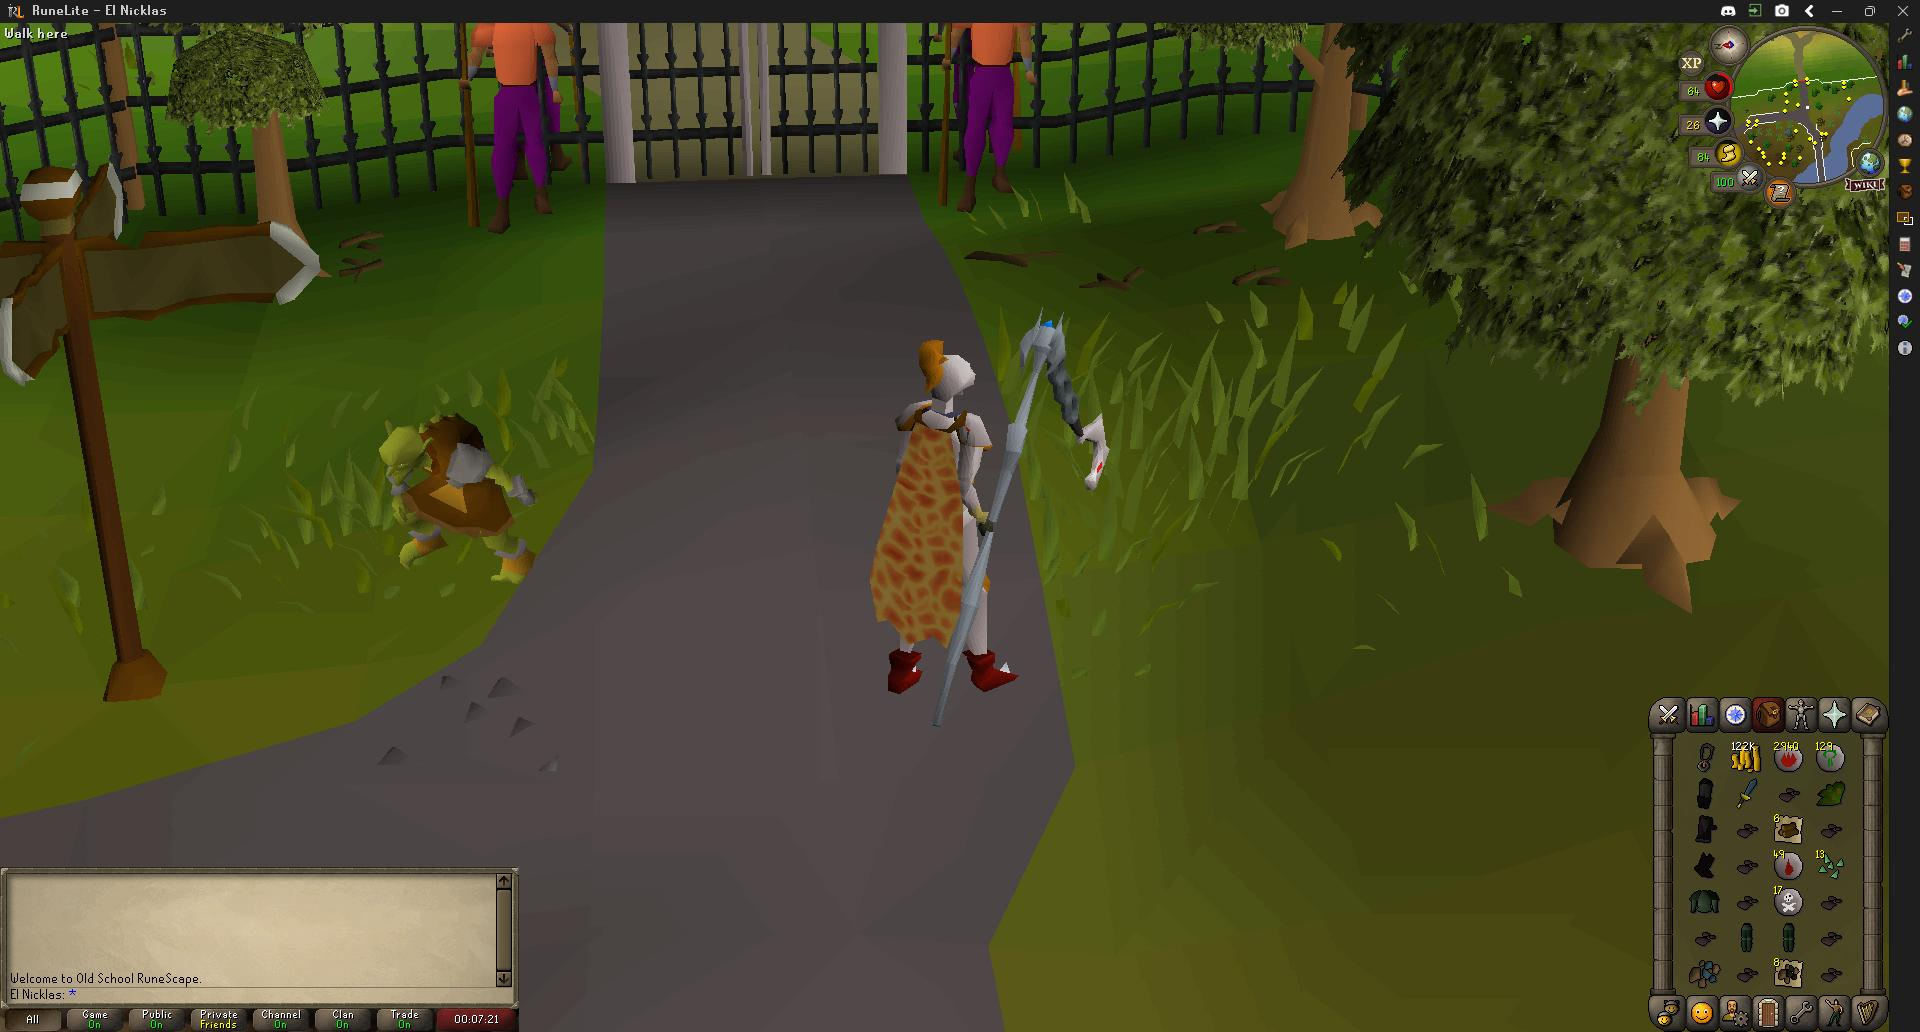Player: (878, 333, 1005, 707)
goblin: (380, 408, 535, 583)
